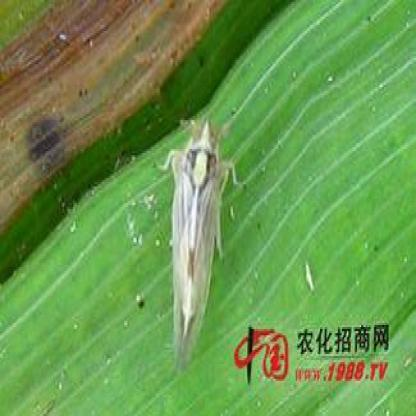brown-planthopper: (158, 121, 233, 368)
